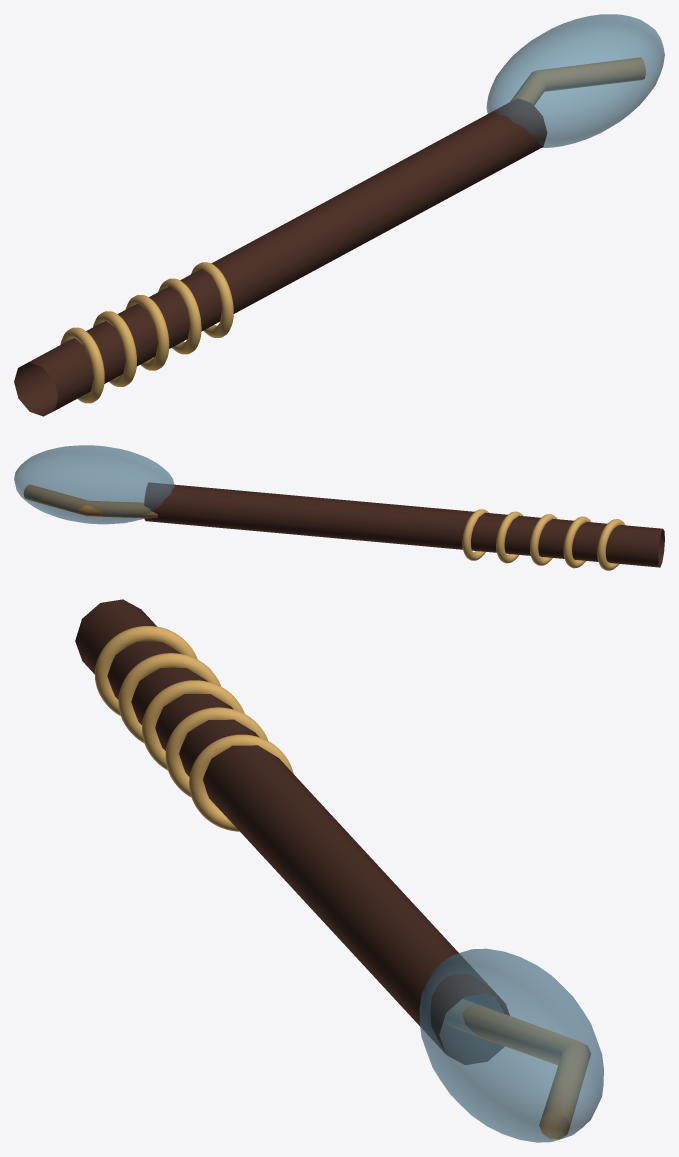
File: command-wand-v1.glb
3 renders of one model, top to bottom at view 1: azimuth 30°, elevation 25°; view 2: azimuth 150°, elevation 25°; view 3: azimuth 270°, elevation 25°, orthographic. The views are drawn at different scales.
Parts seen in each view (by area): view 1: CommandWand, WandCrystal, CrystalCradle, WandBinding, WandBinding.001, WandBinding.002, WandBinding.003, WandBinding.004; view 2: CommandWand, WandCrystal, CrystalCradle, WandBinding, WandBinding.001, WandBinding.003, WandBinding.002, WandBinding.004; view 3: CommandWand, WandCrystal, CrystalCradle, WandBinding.004, WandBinding, WandBinding.001, WandBinding.002, WandBinding.003.
Boxes of the visible parts, x1,y1,x2,y2 form: CommandWand: [14, 98, 547, 416]; WandCrystal: [486, 14, 664, 147]; CrystalCradle: [510, 57, 645, 105]; WandBinding: [60, 327, 104, 403]; WandBinding.001: [93, 311, 136, 386]; WandBinding.002: [125, 295, 169, 370]; WandBinding.003: [158, 278, 201, 354]; WandBinding.004: [191, 262, 233, 337]; CommandWand: [144, 482, 664, 567]; WandCrystal: [14, 445, 174, 524]; CrystalCradle: [23, 484, 157, 518]; WandBinding: [597, 519, 625, 570]; WandBinding.001: [563, 516, 591, 568]; WandBinding.003: [496, 511, 522, 563]; WandBinding.002: [530, 514, 557, 565]; WandBinding.004: [462, 509, 488, 560]; CommandWand: [75, 599, 509, 1064]; WandCrystal: [419, 948, 603, 1142]; CrystalCradle: [444, 999, 590, 1139]; WandBinding.004: [189, 734, 293, 831]; WandBinding: [94, 626, 197, 715]; WandBinding.001: [118, 653, 220, 742]; WandBinding.002: [142, 680, 244, 770]; WandBinding.003: [165, 707, 268, 797].
Size of the model in its own units: 1.75 by 0.254 by 0.7405.
